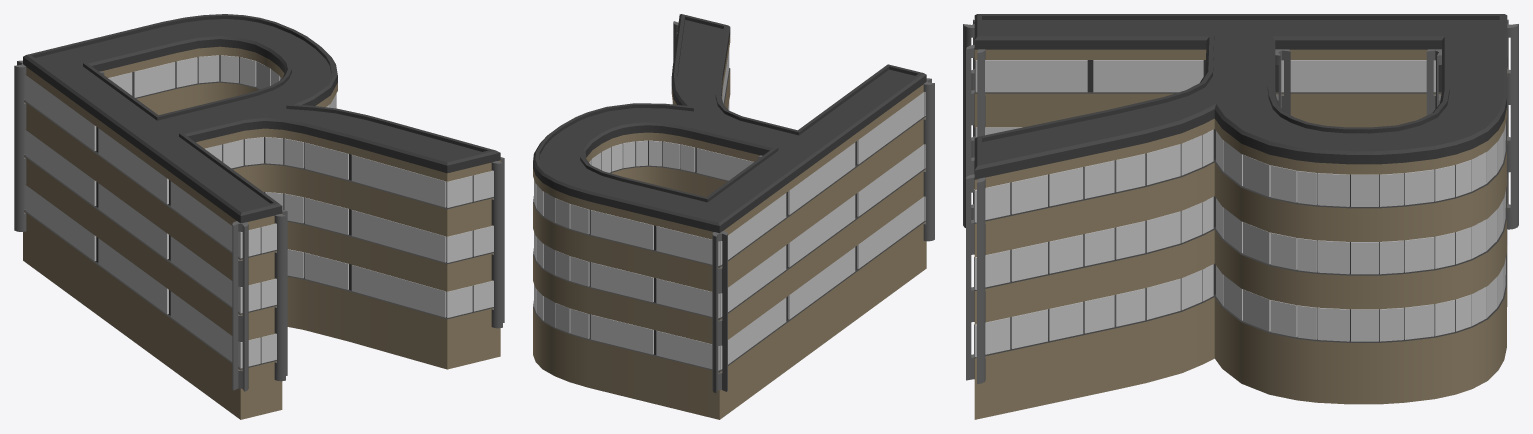
3 renders of one model, left to right at view 1: azimuth 30°, elevation 25°; view 2: azimuth 150°, elevation 25°; view 3: azimuth 270°, elevation 25°, orthographic. The views are drawn at different scales.
Visible parts, largest first — view 1: City Building-R4; view 2: City Building-R4; view 3: City Building-R4.
Part boxes in pixels (left/top/right/bottom): City Building-R4: left=14, top=14, right=504, bottom=419; City Building-R4: left=533, top=14, right=934, bottom=419; City Building-R4: left=963, top=14, right=1518, bottom=419.
Bounding box in the file's own units: 23.71 × 17.09 × 34.15.
